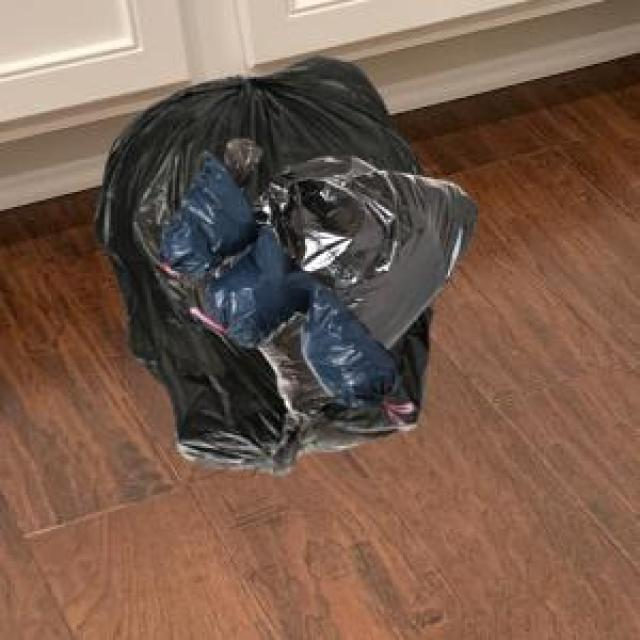miscellaneous trash: (90, 53, 429, 472), (211, 134, 476, 418), (158, 147, 399, 403)
